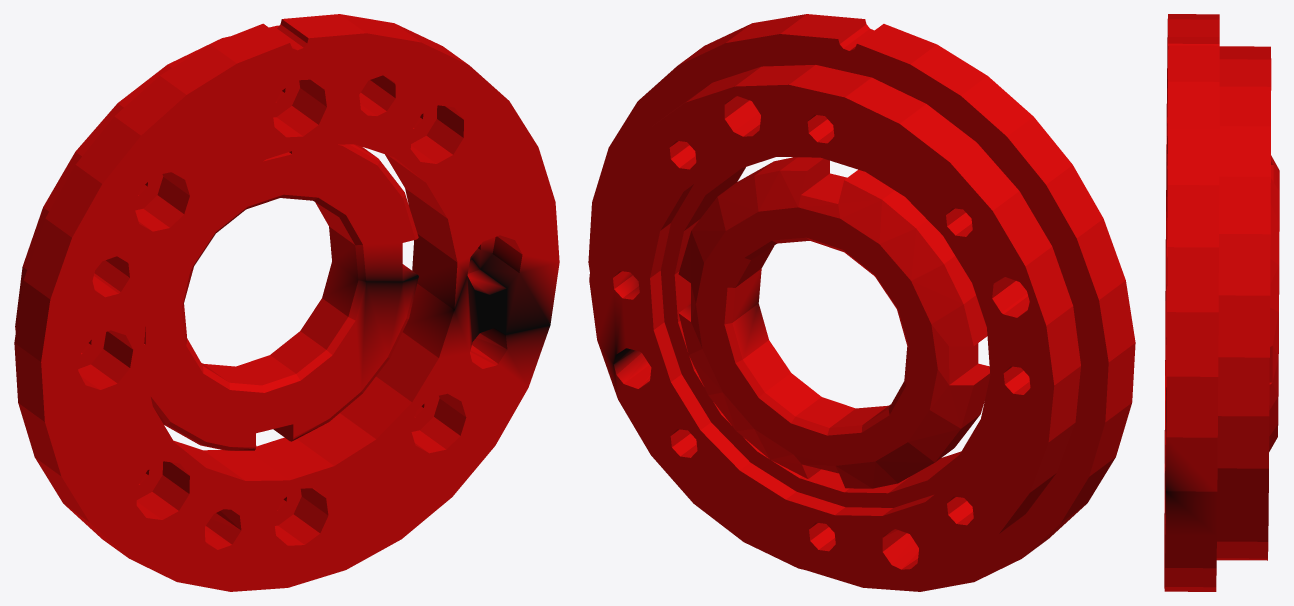
3 renders of one model, left to right at view 1: azimuth 30°, elevation 25°; view 2: azimuth 150°, elevation 25°; view 3: azimuth 270°, elevation 25°, orthographic. The views are drawn at different scales.
Parts seen in each view (by area): view 1: node; view 2: node; view 3: node.
Boxes of the visible parts, x1=… form: node: x1=14, y1=14, x2=559, y2=591; node: x1=588, y1=14, x2=1135, y2=591; node: x1=1164, y1=14, x2=1279, y2=591.
Bounding box in the file's own units: 55.93 × 55.98 × 11.17.
